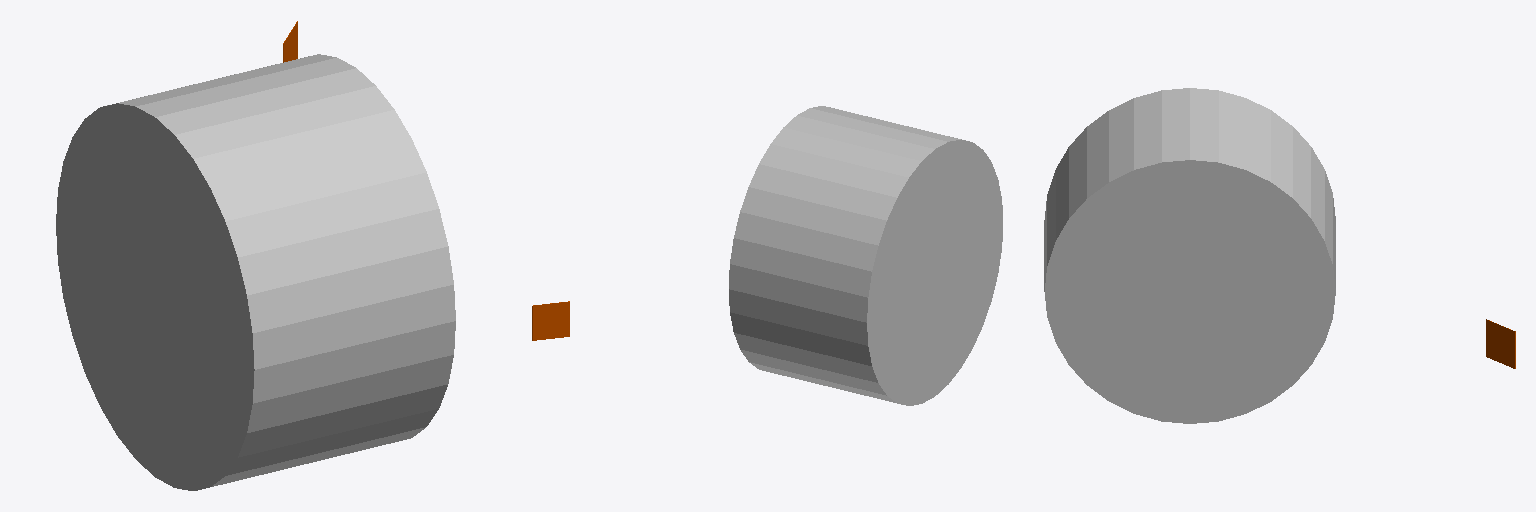
The robot description file, URDF, robot "single_gp4":
<?xml version="1.0" ?>
<!-- =================================================================================== -->
<!-- |    This document was autogenerated by xacro from single_gp4.xacro               | -->
<!-- |    EDITING THIS FILE BY HAND IS NOT RECOMMENDED                                 | -->
<!-- =================================================================================== -->
<robot name="single_gp4">
  <link name="world"/>
  <joint name="left_arm_to_world" type="fixed">
    <parent link="world"/>
    <child link="left_arm_base"/>
    <origin rpy="0 0 0" xyz="0 0 1"/>
    <dynamics damping="1.0"/>
  </joint>
  <!-- ROS-Industrial 'base' frame: base_link to gp4 World Coordinates transform -->
  <link name="left_arm_base"/>
  <joint name="left_arm_base_link-base" type="fixed">
    <origin rpy="0 0 0" xyz="0 0 0.0"/>
    <parent link="left_arm_base"/>
    <child link="left_arm_base_link"/>
  </joint>
  <!-- links: main serial chain -->
  <link name="left_arm_base_link">
    <inertial>
      <origin rpy="0 0 0" xyz="-0.073983 0.00022734 0.13031"/>
      <mass value="42.212"/>
      <inertia ixx="0.64296" ixy="0.0012624" ixz="-0.068804" iyy="1.2709" iyz="-0.0010754" izz="1.3497"/>
    </inertial>
    <visual>
      <geometry>
        <mesh filename="file:///root/catkin_ws/src/robot_digital_twin/meshes/gp4/base_link.stl"/>
      </geometry>
      <material name="">
        <color rgba="0.12941176470588237 0.14901960784313725 0.7490196078431373 1.0"/>
      </material>
    </visual>
    <collision>
      <geometry>
        <mesh filename="file:///root/catkin_ws/src/robot_digital_twin/meshes/gp4/base_link.stl"/>
      </geometry>
    </collision>
  </link>
  <link name="left_arm_link_1">
    <inertial>
      <origin rpy="0 0 0" xyz="0.058962 0.24363 -0.018725"/>
      <mass value="37.265"/>
      <inertia ixx="0.95018" ixy="-0.14402" ixz="-0.064915" iyy="1.0578" iyz="0.037699" izz="1.094"/>
    </inertial>
    <visual>
      <geometry>
        <mesh filename="file:///root/catkin_ws/src/robot_digital_twin/meshes/gp4/link_1.stl"/>
      </geometry>
      <material name="">
        <color rgba="0.12941176470588237 0.14901960784313725 0.7490196078431373 1.0"/>
      </material>
    </visual>
    <collision>
      <geometry>
        <mesh filename="file:///root/catkin_ws/src/robot_digital_twin/meshes/gp4/link_1.stl"/>
      </geometry>
    </collision>
  </link>
  <link name="left_arm_link_2">
    <inertial>
      <origin rpy="0 0 0" xyz="3.5083E-05 0.39008 0.15036"/>
      <mass value="22.632"/>
      <inertia ixx="1.7745" ixy="-0.0054743" ixz="0.00063015" iyy="0.15511" iyz="-0.09224" izz="1.826"/>
    </inertial>
    <visual>
      <geometry>
        <mesh filename="file:///root/catkin_ws/src/robot_digital_twin/meshes/gp4/link_2.stl"/>
      </geometry>
      <material name="">
        <color rgba="0.12941176470588237 0.14901960784313725 0.7490196078431373 1.0"/>
      </material>
    </visual>
    <collision>
      <geometry>
        <mesh filename="file:///root/catkin_ws/src/robot_digital_twin/meshes/gp4/link_2.stl"/>
      </geometry>
    </collision>
  </link>
  <link name="left_arm_link_3">
    <inertial>
      <origin rpy="0 0 0" xyz="0.086423 0.14427 -0.035793"/>
      <mass value="28.467"/>
      <inertia ixx="0.65771" ixy="-0.13627" ixz="-0.026219" iyy="0.52683" iyz="0.051956" izz="0.69722"/>
    </inertial>
    <visual>
      <geometry>
        <mesh filename="file:///root/catkin_ws/src/robot_digital_twin/meshes/gp4/link_3.stl"/>
      </geometry>
      <material name="">
        <color rgba="0.12941176470588237 0.14901960784313725 0.7490196078431373 1.0"/>
      </material>
    </visual>
    <collision>
      <geometry>
        <mesh filename="file:///root/catkin_ws/src/robot_digital_twin/meshes/gp4/link_3.stl"/>
      </geometry>
    </collision>
  </link>
  <link name="left_arm_link_4">
    <inertial>
      <origin rpy="0 0 0" xyz="0.37337 0.00033491 0.012656"/>
      <mass value="7.629"/>
      <inertia ixx="0.018151" ixy="-0.00033527" ixz="-0.031589" iyy="0.48072" iyz="3.3917E-05" izz="0.47647"/>
    </inertial>
    <visual>
      <geometry>
        <mesh filename="file:///root/catkin_ws/src/robot_digital_twin/meshes/gp4/link_4.stl"/>
      </geometry>
      <material name="">
        <color rgba="0.12941176470588237 0.14901960784313725 0.7490196078431373 1.0"/>
      </material>
    </visual>
    <collision>
      <geometry>
        <mesh filename="file:///root/catkin_ws/src/robot_digital_twin/meshes/gp4/link_4.stl"/>
      </geometry>
    </collision>
  </link>
  <link name="left_arm_link_5">
    <inertial>
      <origin rpy="0 0 0" xyz="0.062818 3.3289E-05 0.0048991"/>
      <mass value="2.5794"/>
      <inertia ixx="0.015161" ixy="-2.4835E-06" ixz="0.0016647" iyy="0.021382" iyz="-2.248E-06" izz="0.013473"/>
    </inertial>
    <visual>
      <geometry>
        <mesh filename="file:///root/catkin_ws/src/robot_digital_twin/meshes/gp4/link_5.stl"/>
      </geometry>
      <material name="">
        <color rgba="0.12941176470588237 0.14901960784313725 0.7490196078431373 1.0"/>
      </material>
    </visual>
    <collision>
      <geometry>
        <mesh filename="file:///root/catkin_ws/src/robot_digital_twin/meshes/gp4/link_5.stl"/>
      </geometry>
    </collision>
  </link>
  <link name="left_arm_link_6">
    <inertial>
      <origin rpy="0 0 0" xyz="0.00015982 -0.00063018 -0.008266"/>
      <mass value="0.10811"/>
      <inertia ixx="9.0129E-05" ixy="-1.0891E-08" ixz="9.1598E-09" iyy="9.2026E-05" iyz="-2.749E-07" izz="0.00017818"/>
    </inertial>
    <visual>
      <geometry>
        <mesh filename="file:///root/catkin_ws/src/robot_digital_twin/meshes/gp4/link_6.stl"/>
      </geometry>
      <material name="">
        <color rgba="0.8 0.8 0.8 1"/>
      </material>
    </visual>
    <collision>
      <geometry>
        <mesh filename="file:///root/catkin_ws/src/robot_digital_twin/meshes/gp4/link_6.stl"/>
      </geometry>
    </collision>
  </link>
  <link name="left_arm_fts">
    <collision>
      <origin rpy=" 0 0 0" xyz="0 0 0"/>
      <geometry>
        <cylinder length="0.041" radius="0.035"/>
      </geometry>
    </collision>
    <visual>
      <origin rpy="0 0 0" xyz="0 0 0"/>
      <geometry>
        <cylinder length="0.041" radius="0.035"/>
      </geometry>
      <material name="">
        <color rgba="0.8 0.8 0.8 1"/>
      </material>
    </visual>
    <inertial>
      <mass value="1e-5"/>
      <origin rpy="0 0 0" xyz="0 0 0"/>
      <inertia ixx="1e-6" ixy="0" ixz="0" iyy="1e-6" iyz="0" izz="1e-6"/>
    </inertial>
  </link>
  <link name="left_arm_link_tool">
    <inertial>
      <origin rpy="0 0 0" xyz="0 0 0"/>
      <mass value="0.10811"/>
      <inertia ixx="9.0129E-05" ixy="-1.0891E-08" ixz="9.1598E-09" iyy="9.2026E-05" iyz="-2.749E-07" izz="0.00017818"/>
    </inertial>
    <collision>
      <origin rpy="0 0 0" xyz="0 0 0"/>
      <geometry>
        <mesh filename="file:///root/catkin_ws/src/robot_digital_twin/meshes/eoat/tool_base_tilt.stl"/>
      </geometry>
    </collision>
    <visual>
      <origin rpy="0 0 0" xyz="0 0 0"/>
      <geometry>
        <mesh filename="file:///root/catkin_ws/src/robot_digital_twin/meshes/eoat/tool_base_tilt.stl"/>
      </geometry>
      <material name="">
        <color rgba="0.8 0.8 0.8 1"/>
      </material>
    </visual>
  </link>
  <link name="left_arm_link_precam">
    <inertial>
      <mass value="1e-5"/>
      <origin rpy="0 0 0" xyz="0 0 0"/>
      <inertia ixx="1e-6" ixy="0" ixz="0" iyy="1e-6" iyz="0" izz="1e-6"/>
    </inertial>
  </link>
  <link name="left_arm_link_camera">
    <inertial>
      <origin rpy="0 0 0" xyz="0 0 0"/>
      <mass value="0.10811"/>
      <inertia ixx="9.0129E-05" ixy="-1.0891E-08" ixz="9.1598E-09" iyy="9.2026E-05" iyz="-2.749E-07" izz="0.00017818"/>
    </inertial>
    <visual>
      <origin rpy="0 0 0" xyz="0 0 0"/>
      <geometry>
        <mesh filename="file:///root/catkin_ws/src/robot_digital_twin/meshes/eoat/tool_camera.stl"/>
      </geometry>
      <material name="">
        <color rgba="0.15 0.15 0.15 1.0"/>
      </material>
    </visual>
    <collision>
      <origin rpy="0 0 0" xyz="0 0 0"/>
      <geometry>
        <mesh filename="file:///root/catkin_ws/src/robot_digital_twin/meshes/eoat/tool_camera.stl"/>
      </geometry>
    </collision>
  </link>
  <link name="left_arm_link_camera_origin">
    <collision>
      <origin rpy="0 0 0" xyz="0 0 0"/>
      <geometry>
        <box size="0.0001 0.0001 0.0001"/>
      </geometry>
    </collision>
    <visual>
      <origin rpy="0 0 0" xyz="0 0 0"/>
      <geometry>
        <box size="0.0001 0.01 0.01"/>
      </geometry>
    </visual>
    <inertial>
      <mass value="1e-5"/>
      <origin rpy="0 0 0" xyz="0 0 0"/>
      <inertia ixx="1e-6" ixy="0" ixz="0" iyy="1e-6" iyz="0" izz="1e-6"/>
    </inertial>
  </link>
  <!-- joints: main serial chain -->
  <joint name="left_arm_joint_1" type="continuous">
    <parent link="left_arm_base_link"/>
    <child link="left_arm_link_1"/>
    <origin rpy="0 0 0" xyz="0 0 0.330"/>
    <axis xyz="0 0 1"/>
    <!-- <limit lower="${radians(-170)}" upper="${radians(170)}" effort="220.5" velocity="${radians(465)}"/> -->
    <!-- <limit effort="0" lower="${radians(-170)}" upper="${radians(170)}" velocity="${radians(370)}" /> -->
  </joint>
  <joint name="left_arm_joint_2" type="continuous">
    <parent link="left_arm_link_1"/>
    <child link="left_arm_link_2"/>
    <origin rpy="0 0 0" xyz="0 0 0"/>
    <axis xyz="0 1 0"/>
    <!-- <limit effort="100" lower="${radians(-100)}" upper="${radians(145)}" velocity="${radians(310)}" /> -->
  </joint>
  <joint name="left_arm_joint_3" type="continuous">
    <parent link="left_arm_link_2"/>
    <child link="left_arm_link_3"/>
    <origin rpy="0 0 0" xyz="0 0 0.260"/>
    <axis xyz="0 -1 0"/>
    <!-- <limit effort="0" lower="${radians(-70)}" upper="${radians(213)}" velocity="${radians(410)}" /> -->
  </joint>
  <joint name="left_arm_joint_4" type="continuous">
    <parent link="left_arm_link_3"/>
    <child link="left_arm_link_4"/>
    <origin rpy="0 0 0" xyz="0.290 0 0.015"/>
    <axis xyz="-1 0 0"/>
    <!-- <limit effort="0" lower="${radians(-190)}" upper="${radians(190)}" velocity="${radians(550)}" /> -->
  </joint>
  <joint name="left_arm_joint_5" type="continuous">
    <parent link="left_arm_link_4"/>
    <child link="left_arm_link_5"/>
    <origin rpy="0 0 0" xyz="0 0 0"/>
    <axis xyz="0 -1 0"/>
    <!-- <limit effort="0" lower="${radians(-125)}" upper="${radians(125)}" velocity="${radians(545)}" /> -->
  </joint>
  <joint name="left_arm_joint_6" type="continuous">
    <parent link="left_arm_link_5"/>
    <child link="left_arm_link_6"/>
    <origin rpy="0 0 0" xyz="0 0 0"/>
    <axis xyz="-1 0 0"/>
    <!-- <limit effort="0" lower="${radians(-360)}" upper="${radians(360)}" velocity="${radians(1000)}" /> -->
  </joint>
  <link name="left_arm_flange"/>
  <joint name="left_arm_joint_6_t-flange" type="fixed">
    <origin rpy="0 0 0" xyz="0.072 0 0"/>
    <parent link="left_arm_link_6"/>
    <child link="left_arm_flange"/>
  </joint>
  <joint name="left_arm_link_6_fts" type="fixed">
    <origin rpy="0 1.5707963267948966 0" xyz="0.02525 0 0"/>
    <parent link="left_arm_flange"/>
    <child link="left_arm_fts"/>
  </joint>
  <joint name="left_arm_fts_tool" type="revolute">
    <origin rpy="0 0 3.141592653589793" xyz="0 0 0.02525"/>
    <parent link="left_arm_fts"/>
    <child link="left_arm_link_tool"/>
    <axis xyz="0 0 1"/>
    <limit effort="0" lower="0" upper="0" velocity="0"/>
  </joint>
  <joint name="left_arm_tool_precam" type="fixed">
    <origin rpy="1.5707963267948966 -1.5707963267948966  0" xyz="0 -0.062194148 -0.005909903"/>
    <parent link="left_arm_link_tool"/>
    <child link="left_arm_link_precam"/>
  </joint>
  <joint name="left_arm_precam_camera" type="fixed">
    <origin rpy="0 0.7853981633974483 0" xyz="0 0 0"/>
    <parent link="left_arm_link_precam"/>
    <child link="left_arm_link_camera"/>
  </joint>
  <joint name="left_arm_camera_imgplane" type="fixed">
    <origin rpy="0 0 0" xyz="0.013 0.0 0.0305"/>
    <parent link="left_arm_link_camera"/>
    <child link="left_arm_link_camera_origin"/>
  </joint>
  <transmission name="trans_left_arm_joint_1">
    <type>transmission_interface/SimpleTransmission</type>
    <joint name="left_arm_joint_1">
      <hardwareInterface>hardware_interface/PositionJointInterface</hardwareInterface>
    </joint>
    <actuator name="left_arm_joint_1_motor">
      <hardwareInterface>hardware_interface/PositionJointInterface</hardwareInterface>
      <mechanicalReduction>1</mechanicalReduction>
    </actuator>
  </transmission>
  <transmission name="trans_left_arm_joint_2">
    <type>transmission_interface/SimpleTransmission</type>
    <joint name="left_arm_joint_2">
      <hardwareInterface>hardware_interface/PositionJointInterface</hardwareInterface>
    </joint>
    <actuator name="left_arm_joint_2_motor">
      <hardwareInterface>hardware_interface/PositionJointInterface</hardwareInterface>
      <mechanicalReduction>1</mechanicalReduction>
    </actuator>
  </transmission>
  <transmission name="trans_left_arm_joint_3">
    <type>transmission_interface/SimpleTransmission</type>
    <joint name="left_arm_joint_3">
      <hardwareInterface>hardware_interface/PositionJointInterface</hardwareInterface>
    </joint>
    <actuator name="left_arm_joint_3_motor">
      <hardwareInterface>hardware_interface/PositionJointInterface</hardwareInterface>
      <mechanicalReduction>1</mechanicalReduction>
    </actuator>
  </transmission>
  <transmission name="trans_left_arm_joint_4">
    <type>transmission_interface/SimpleTransmission</type>
    <joint name="left_arm_joint_4">
      <hardwareInterface>hardware_interface/PositionJointInterface</hardwareInterface>
    </joint>
    <actuator name="left_arm_joint_4_motor">
      <hardwareInterface>hardware_interface/PositionJointInterface</hardwareInterface>
      <mechanicalReduction>1</mechanicalReduction>
    </actuator>
  </transmission>
  <transmission name="trans_left_arm_joint_5">
    <type>transmission_interface/SimpleTransmission</type>
    <joint name="left_arm_joint_5">
      <hardwareInterface>hardware_interface/PositionJointInterface</hardwareInterface>
    </joint>
    <actuator name="left_arm_joint_5_motor">
      <hardwareInterface>hardware_interface/PositionJointInterface</hardwareInterface>
      <mechanicalReduction>1</mechanicalReduction>
    </actuator>
  </transmission>
  <transmission name="trans_left_arm_joint_6">
    <type>transmission_interface/SimpleTransmission</type>
    <joint name="left_arm_joint_6">
      <hardwareInterface>hardware_interface/PositionJointInterface</hardwareInterface>
    </joint>
    <actuator name="left_arm_joint_6_motor">
      <hardwareInterface>hardware_interface/PositionJointInterface</hardwareInterface>
      <mechanicalReduction>1</mechanicalReduction>
    </actuator>
  </transmission>
  <gazebo reference="fts_tool">
    <provideFeedback>true</provideFeedback>
  </gazebo>
  <gazebo>
    <provideFeedback>true</provideFeedback>
    <plugin filename="libgazebo_ros_ft_sensor.so" name="ft_sensor">
      <!-- <robotNamespace>/gp4_gazebo</robotNamespace> -->
      <alwaysOn> true </alwaysOn>
      <updateRate>125.0</updateRate>
      <topicName>left_arm_ft_sensor</topicName>
      <jointName>left_arm_fts_tool</jointName>
      <noise>
        <type>gaussian</type>
        <mean>0.0</mean>
        <stddev>0.001</stddev>
      </noise>
    </plugin>
  </gazebo>
  <gazebo reference="link_camera_origin">
    <sensor name="$depth_camera" type="depth">
      <update_rate>30</update_rate>
      <camera>
        <horizontal_fov>1.22173</horizontal_fov>
        <!-- 70deg -->
        <image>
          <width>1920</width>
          <height>1080</height>
          <format>R8G8B8</format>
        </image>
        <clip>
          <near>0.005</near>
          <far>2</far>
        </clip>
      </camera>
      <plugin filename="libgazebo_ros_openni_kinect.so" name="$depth_camera_controller">
        <baseline>0.2</baseline>
        <alwaysOn>true</alwaysOn>
        <updateRate>0</updateRate>
        <cameraName>left_arm_wrist_camera</cameraName>
        <frameName>left_arm_depth_camera_link</frameName>
        <pointCloudCutoff>0.005</pointCloudCutoff>
        <pointCloudCutoffMax>2.0</pointCloudCutoffMax>
        <distortionK1>0</distortionK1>
        <distortionK2>0</distortionK2>
        <distortionK3>0</distortionK3>
        <distortionT1>0</distortionT1>
        <distortionT2>0</distortionT2>
        <CxPrime>0</CxPrime>
        <Cx>0</Cx>
        <Cy>0</Cy>
        <focalLength>0</focalLength>
        <hackBaseline>0</hackBaseline>
      </plugin>
    </sensor>
  </gazebo>
  <gazebo reference="left_arm_base">
    <material>Gazebo/Blue</material>
    <visual>
      <transparency> 0 </transparency>
    </visual>
  </gazebo>
  <gazebo reference="left_arm_base_link">
    <material>Gazebo/Blue</material>
    <visual>
      <transparency> 0 </transparency>
    </visual>
  </gazebo>
  <gazebo reference="left_arm_link_1">
    <material>Gazebo/Blue</material>
    <visual>
      <transparency> 0 </transparency>
    </visual>
  </gazebo>
  <gazebo reference="left_arm_link_2">
    <material>Gazebo/Blue</material>
    <visual>
      <transparency> 0 </transparency>
    </visual>
  </gazebo>
  <gazebo reference="left_arm_link_3">
    <material>Gazebo/Blue</material>
    <visual>
      <transparency> 0 </transparency>
    </visual>
  </gazebo>
  <gazebo reference="left_arm_link_4">
    <material>Gazebo/Blue</material>
    <visual>
      <transparency> 0 </transparency>
    </visual>
  </gazebo>
  <gazebo reference="left_arm_link_5">
    <material>Gazebo/Blue</material>
    <visual>
      <transparency> 0 </transparency>
    </visual>
  </gazebo>
  <gazebo reference="left_arm_link_6">
    <material>Gazebo/Black</material>
    <visual>
      <transparency> 0 </transparency>
    </visual>
  </gazebo>
  <gazebo reference="left_arm_link_tool">
    <material>Gazebo/Black</material>
    <visual>
      <transparency> 0 </transparency>
    </visual>
  </gazebo>
  <gazebo reference="left_arm_fts">
    <material>Gazebo/Black</material>
    <visual>
      <transparency> 0 </transparency>
    </visual>
  </gazebo>
  <gazebo reference="left_arm_link_camera_origin">
    <material>Gazebo/Black</material>
    <visual>
      <transparency> 0 </transparency>
    </visual>
  </gazebo>
  <!-- load ros_control plugin -->
  <gazebo>
    <plugin filename="libgazebo_ros_control.so" name="gazebo_ros_control">
      <!-- <robotNamespace>/gp4_gazebo</robotNamespace> -->
      <robotSimType>gazebo_ros_control/DefaultRobotHWSim</robotSimType>
      <legacyModeNS>true</legacyModeNS>
    </plugin>
  </gazebo>
</robot>

--- What the picture shows (computed from the rendered views, not written in the file) ---
The picture shows the robot from 3 angles, left to right: view 1: azimuth 30°, elevation 25°; view 2: azimuth 150°, elevation 25°; view 3: azimuth 270°, elevation 25°; orthographic projection.
Robot: single_gp4 — 15 links, 14 joints (1 revolute, 6 continuous, 7 fixed); root link world; default pose: all joints at 0.
Visible links, largest first — view 1: left_arm_fts; view 2: left_arm_fts, left_arm_link_camera_origin; view 3: left_arm_fts, left_arm_link_camera_origin.
Link boxes in pixels (x1,y1,x2,y2): left_arm_fts: [56, 54, 455, 490]; left_arm_fts: [729, 106, 1002, 405]; left_arm_link_camera_origin: [532, 301, 569, 340]; left_arm_fts: [1044, 88, 1335, 423]; left_arm_link_camera_origin: [1486, 319, 1515, 368].
Bounding box of the posed robot: 0.0742 × 0.1131 × 0.07 m (x, y, z).
Geometry: only primitive shapes (box / cylinder / sphere) drawn; not drawn: 9 mesh visuals (reference in a form the renderer does not follow).